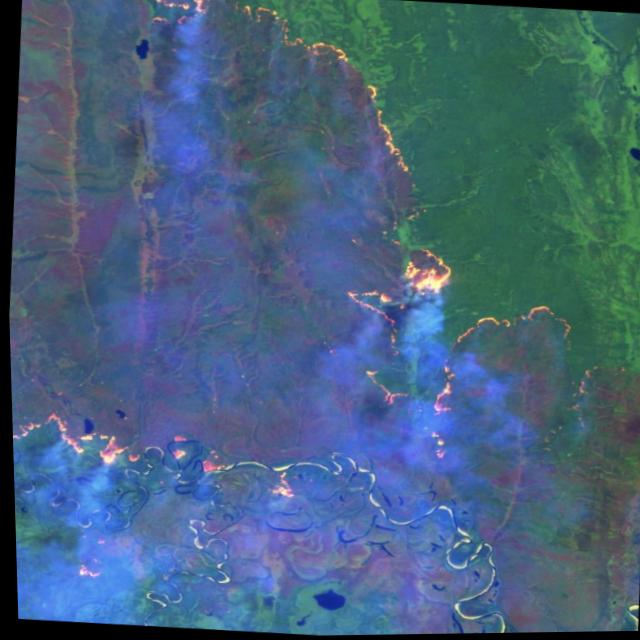fire: (134, 0, 432, 180), (329, 237, 580, 425), (9, 402, 234, 483), (61, 532, 110, 585), (256, 467, 303, 503)
